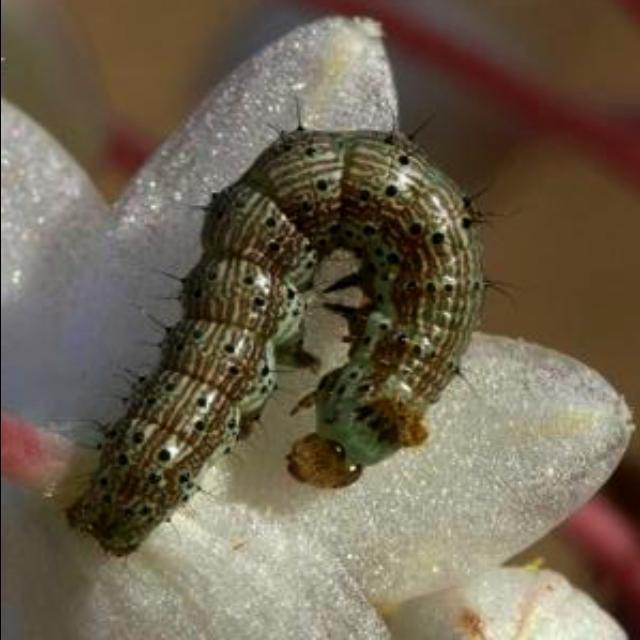Cotton bollworm: (51, 105, 508, 571)
